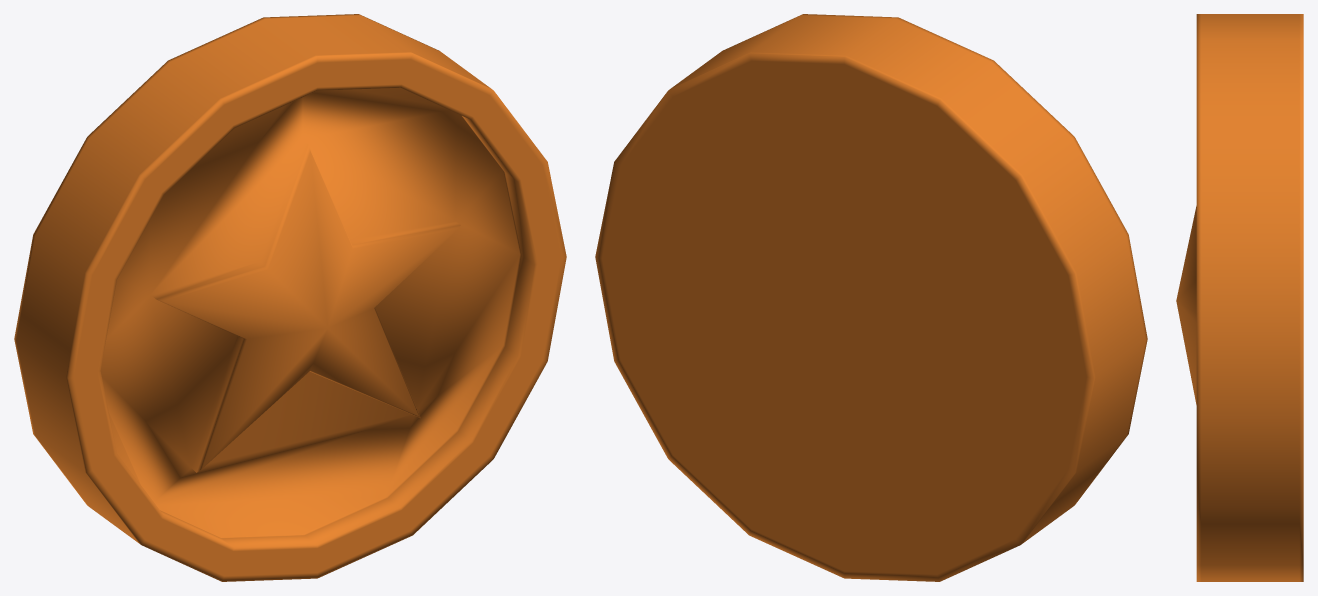
The model's file is moneda.glb.
The picture shows the model from 3 angles, left to right: view 1: azimuth 30°, elevation 25°; view 2: azimuth 150°, elevation 25°; view 3: azimuth 270°, elevation 25°; orthographic projection.
Parts seen in each view (by area): view 1: Circle; view 2: Circle; view 3: Circle.
Boxes of the visible parts, x1,y1,x2,y2 form: Circle: (14, 14, 566, 581); Circle: (595, 14, 1147, 581); Circle: (1176, 14, 1303, 581).
Bounding box in the file's own units: 2 × 2 × 0.4484.
